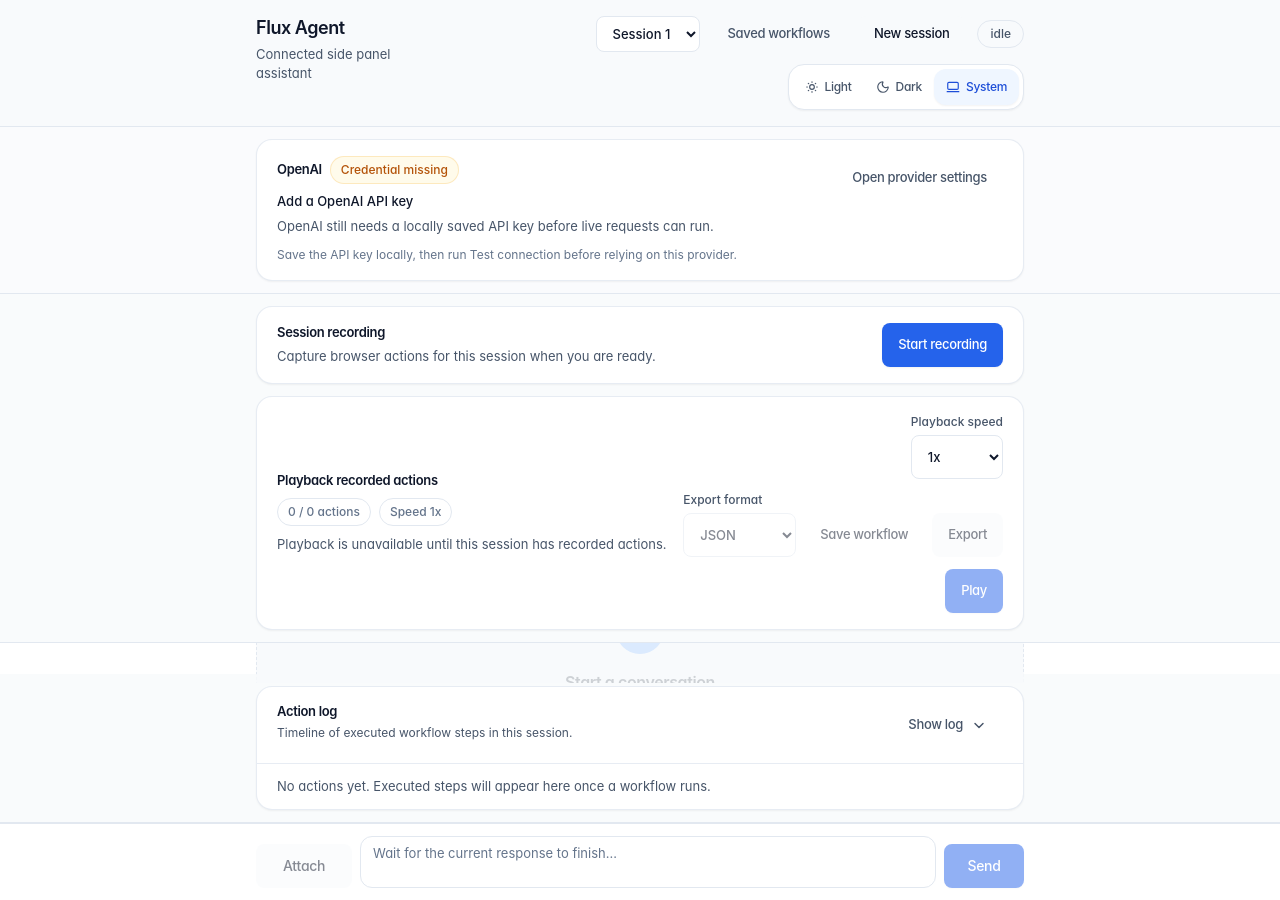
Test case: Side panel App (U-15 integration) › deletes a workflow and keeps selection on the remaining item
Click the button "Saved workflows" at [779, 34], box [712,16,846,52]
(page scrolled)
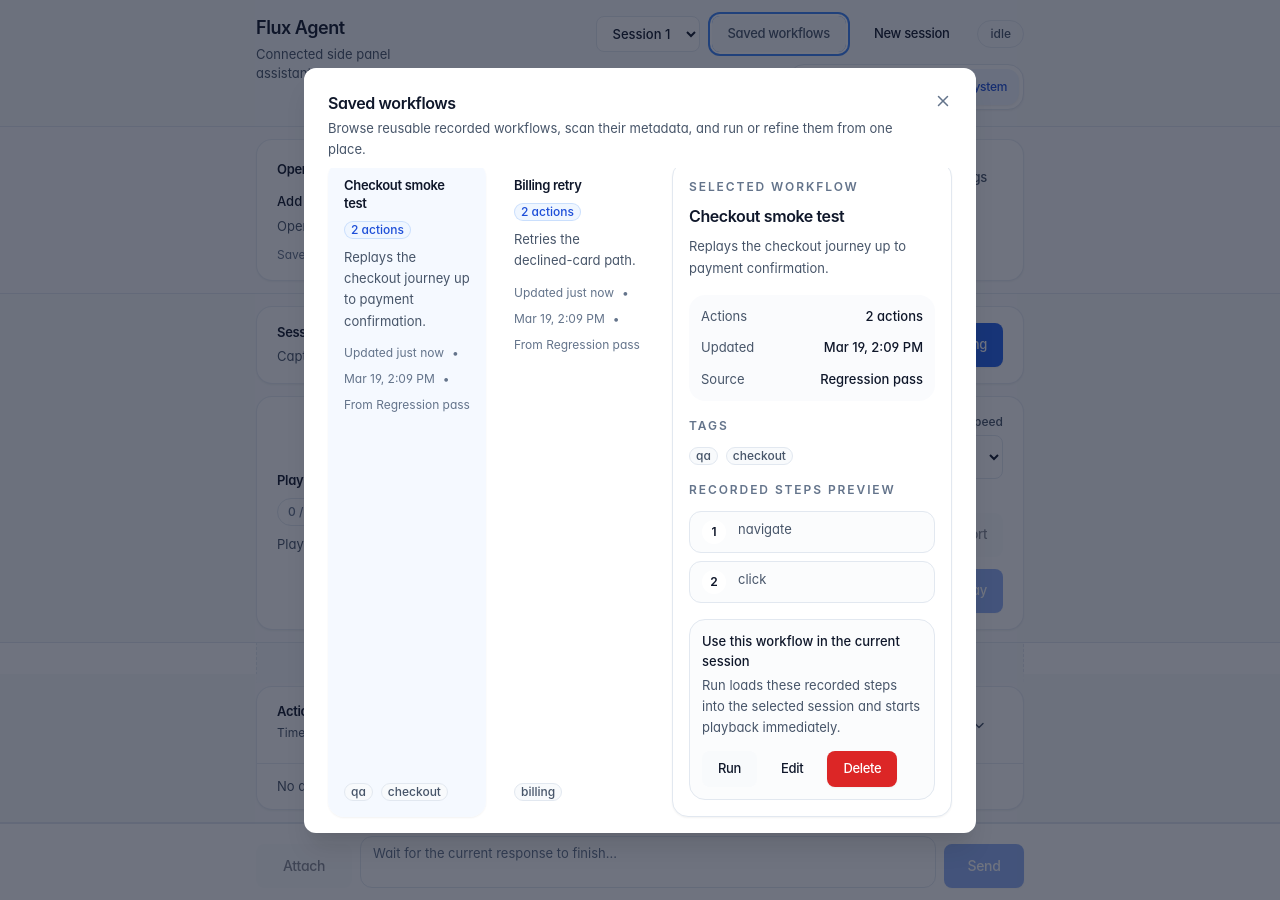
Click the button "Delete" at [862, 768], box [827,750,897,786]
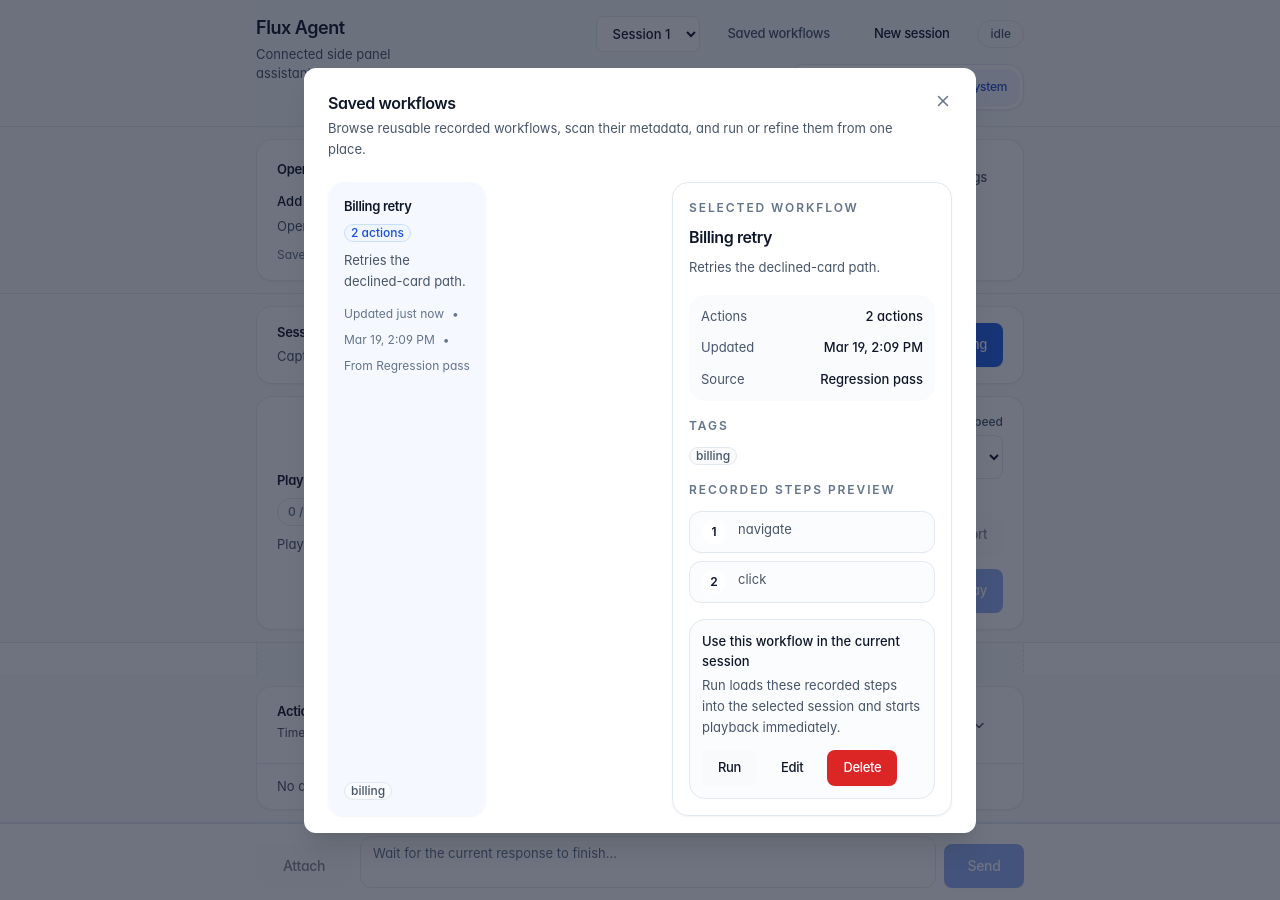
Expected: the button "Run" is enabled, [702,750,757,786]
Expected: the button "Checkout smoke test" is gone
Expected: the number of headings "Billing retry" is 2, [344,198,412,216]; [689,227,772,247]
